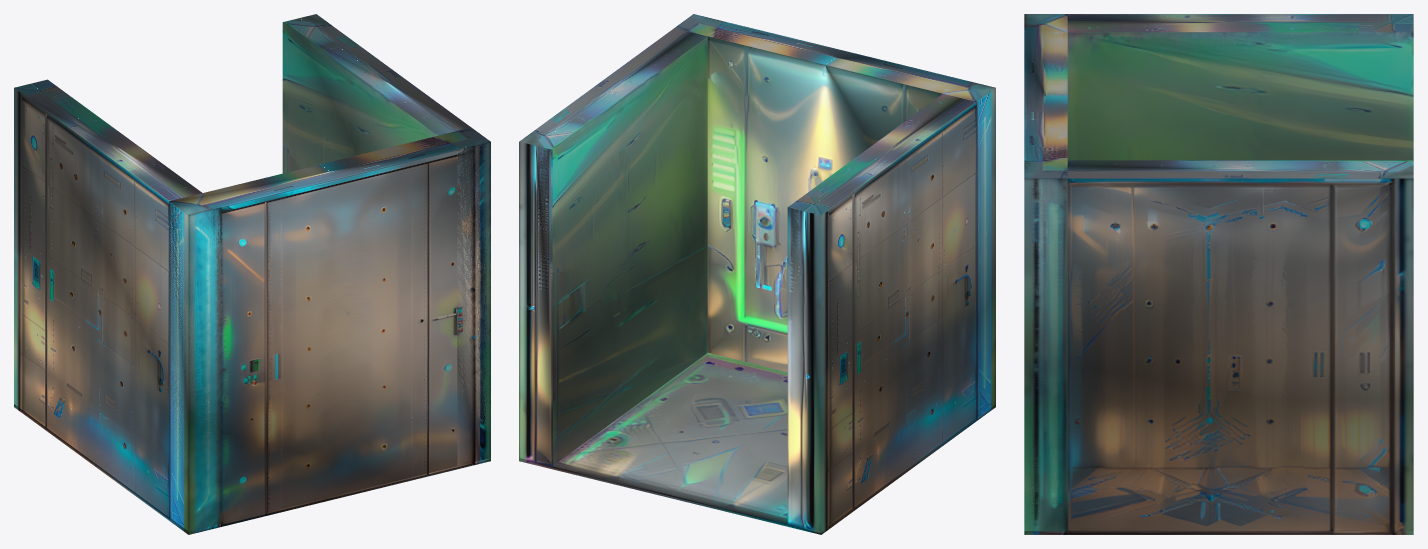
The model's file is residentialBasicFloorWall3.glb.
The picture shows the model from 3 angles, left to right: view 1: azimuth 30°, elevation 25°; view 2: azimuth 150°, elevation 25°; view 3: azimuth 270°, elevation 25°; orthographic projection. The views are drawn at different scales.
Visible parts, largest first — view 1: residentialBasicFloorWall3; view 2: residentialBasicFloorWall3; view 3: residentialBasicFloorWall3.
Part boxes in pixels (x1,y1,x2,y2): residentialBasicFloorWall3: (14,14,490,534); residentialBasicFloorWall3: (519,14,995,534); residentialBasicFloorWall3: (1024,14,1413,534).
Bounding box in the file's own units: 1 × 1.01 × 1.
1 material, 1 textured.
